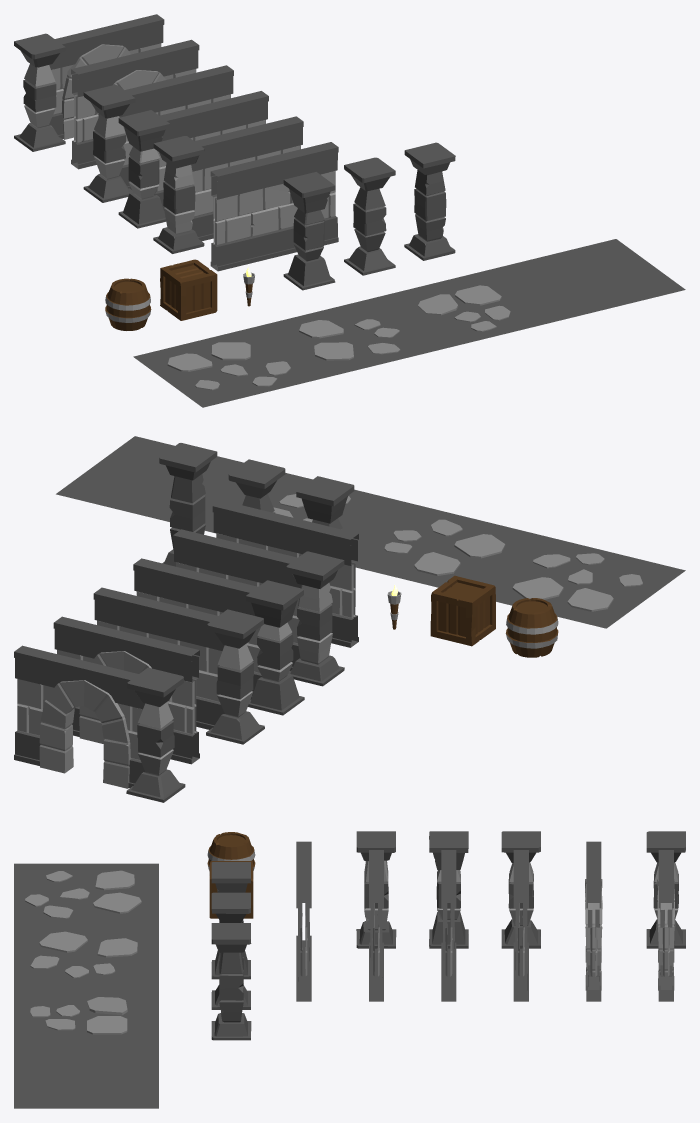
The model's file is modulardungeon_final_modules.glb.
The picture shows the model from 3 angles, top to bottom: view 1: azimuth 30°, elevation 25°; view 2: azimuth 150°, elevation 25°; view 3: azimuth 270°, elevation 25°; orthographic projection. The views are drawn at different scales.
Visible parts, largest first — view 1: wall1, wall2, doorway, Floor1, Floor3, Floor2, Floor4, wall3, wall4, doorway_s, pillar1, pilllar3 (+3 smaller); view 2: doorway, wall4, Floor1, Floor2, wall3, wall2, doorway_s, Floor4, wall1, crate, Floor3, pilllar3 (+3 smaller); view 3: Floor3, Floor2, Floor1, Floor4, wall3, doorway, wall2, wall4, pilllar3, doorway_s, wall1, pillar1 (+3 smaller).
Part boxes in pixels (x1=…): wall1: x1=210, y1=142, x2=338, y2=271; wall2: x1=153, y1=116, x2=303, y2=253; doorway: x1=14, y1=14, x2=164, y2=151; Floor1: x1=133, y1=327, x2=322, y2=407; Floor3: x1=375, y1=268, x2=564, y2=348; Floor2: x1=254, y1=298, x2=443, y2=378; Floor4: x1=496, y1=239, x2=685, y2=319; wall3: x1=118, y1=91, x2=268, y2=228; wall4: x1=83, y1=65, x2=233, y2=202; doorway_s: x1=71, y1=39, x2=199, y2=169; pillar1: x1=283, y1=172, x2=335, y2=290; pilllar3: x1=404, y1=142, x2=455, y2=260; doorway: x1=14, y1=645, x2=185, y2=802; wall4: x1=93, y1=587, x2=264, y2=744; Floor1: x1=485, y1=537, x2=685, y2=628; Floor2: x1=355, y1=503, x2=547, y2=587; wall3: x1=133, y1=558, x2=304, y2=715; wall2: x1=173, y1=529, x2=344, y2=686; doorway_s: x1=53, y1=616, x2=199, y2=764; Floor4: x1=56, y1=436, x2=243, y2=521; wall1: x1=212, y1=500, x2=358, y2=647; crate: x1=430, y1=575, x2=495, y2=646; Floor3: x1=204, y1=473, x2=409, y2=541; pilllar3: x1=159, y1=443, x2=217, y2=566; Floor3: x1=14, y1=986, x2=158, y2=1047; Floor2: x1=14, y1=925, x2=158, y2=986; Floor1: x1=14, y1=863, x2=158, y2=924; Floor4: x1=14, y1=1047, x2=158, y2=1108; wall3: x1=429, y1=831, x2=468, y2=1001; doorway: x1=646, y1=831, x2=685, y2=1001; wall2: x1=356, y1=831, x2=396, y2=1001; wall4: x1=501, y1=831, x2=540, y2=1001; pilllar3: x1=211, y1=923, x2=251, y2=1040; doorway_s: x1=585, y1=841, x2=602, y2=1001; wall1: x1=296, y1=841, x2=311, y2=1001; pillar1: x1=211, y1=862, x2=250, y2=979.
Size of the model in its own units: 16 by 3.43 by 18.54.
